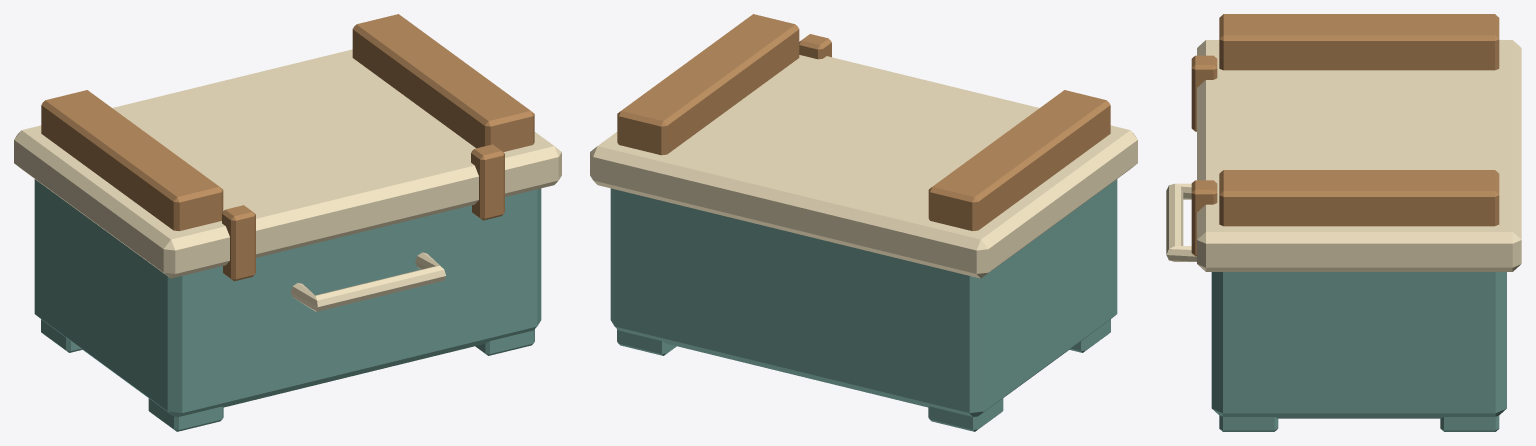
The picture shows the model from 3 angles, left to right: view 1: azimuth 30°, elevation 25°; view 2: azimuth 150°, elevation 25°; view 3: azimuth 270°, elevation 25°; orthographic projection. The views are drawn at different scales.
Visible parts, largest first — view 1: astronomy-stackable-case-01; view 2: astronomy-stackable-case-01; view 3: astronomy-stackable-case-01.
Boxes of the visible parts, <box> form: astronomy-stackable-case-01: <box>14,14,561,431</box>; astronomy-stackable-case-01: <box>590,14,1137,431</box>; astronomy-stackable-case-01: <box>1166,14,1521,431</box>.
Bounding box in the file's own units: 0.64 × 0.36 × 0.4816.
